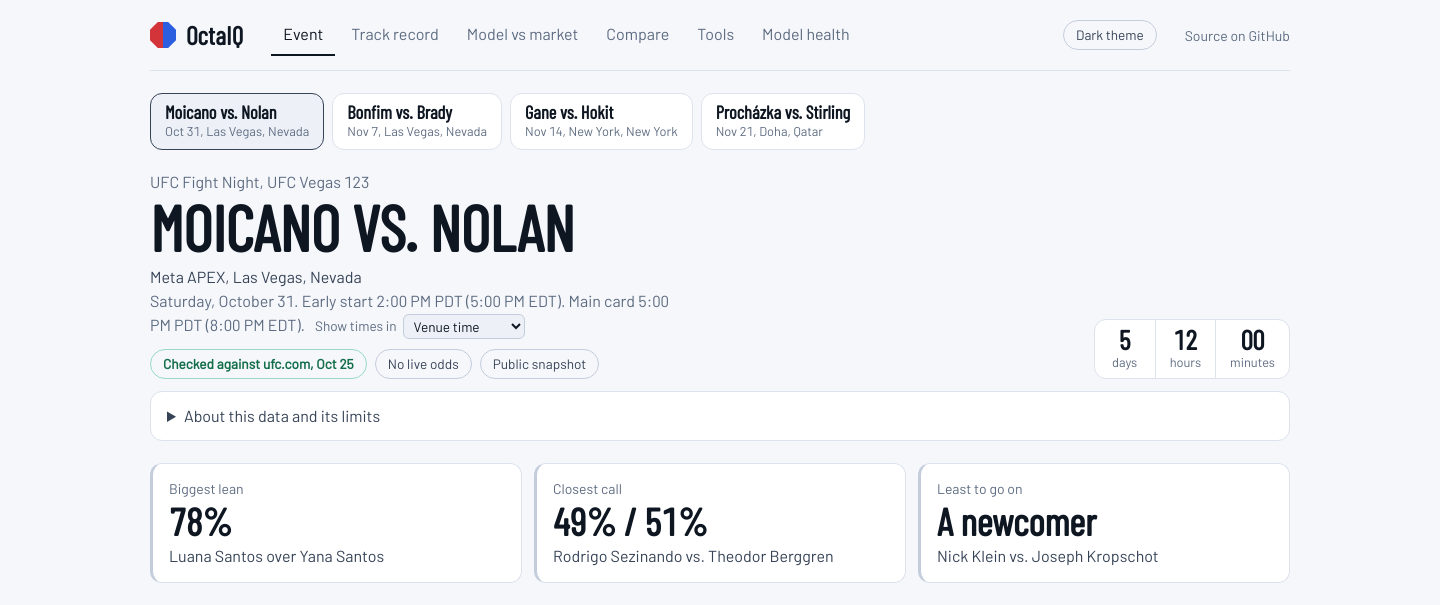
Test: event page › switches events from the picker and puts the event in the URL
The image size is (1440, 605).
Click the button "Bonfim vs. Brady Nov 7, Las Vegas, Nevada".
click(417, 122)  # box [332,93,502,150]
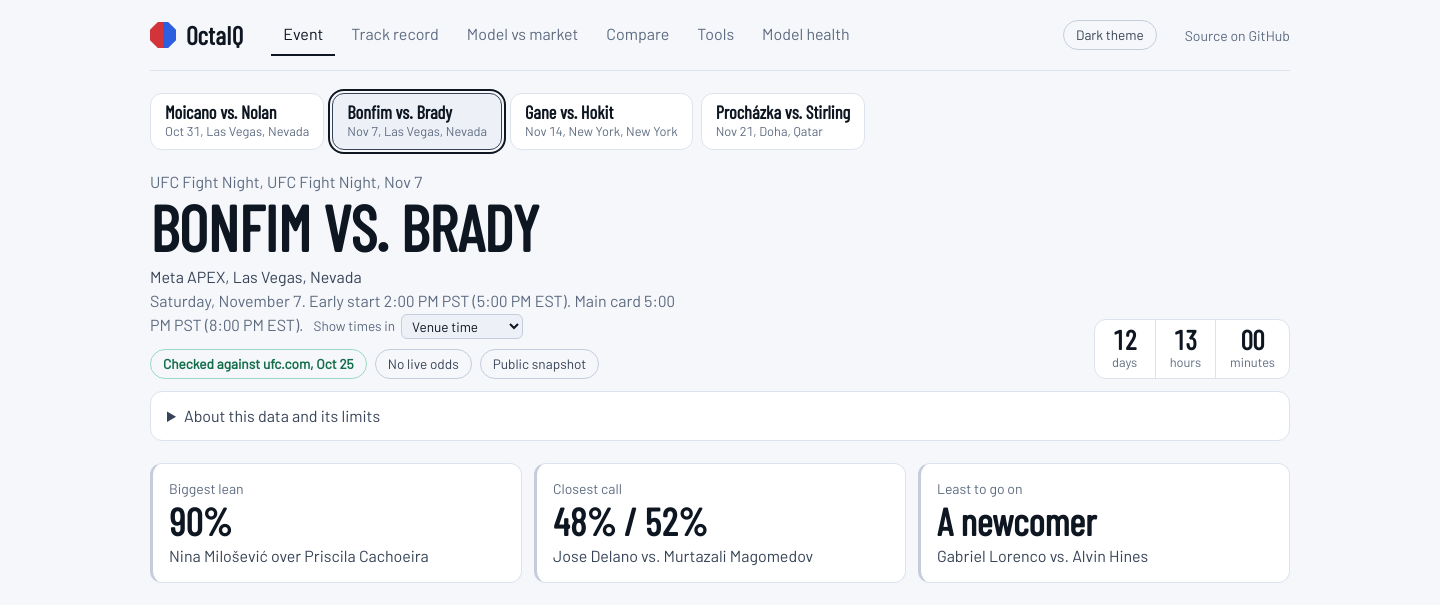
Now the heading "Bonfim vs. Brady" is shown, box [150,188,539,265]
Now the number of buttons named "Open details." is 13
